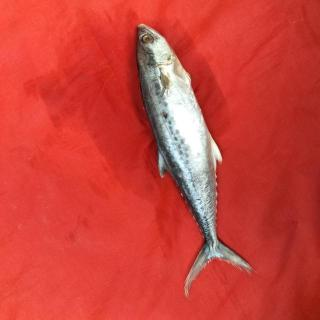Ikan: (128, 21, 268, 301)
